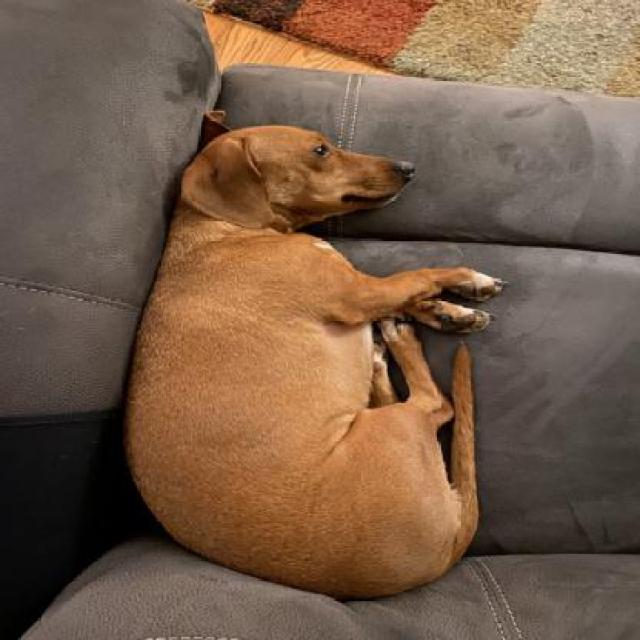Dog: (123, 123, 509, 599)
